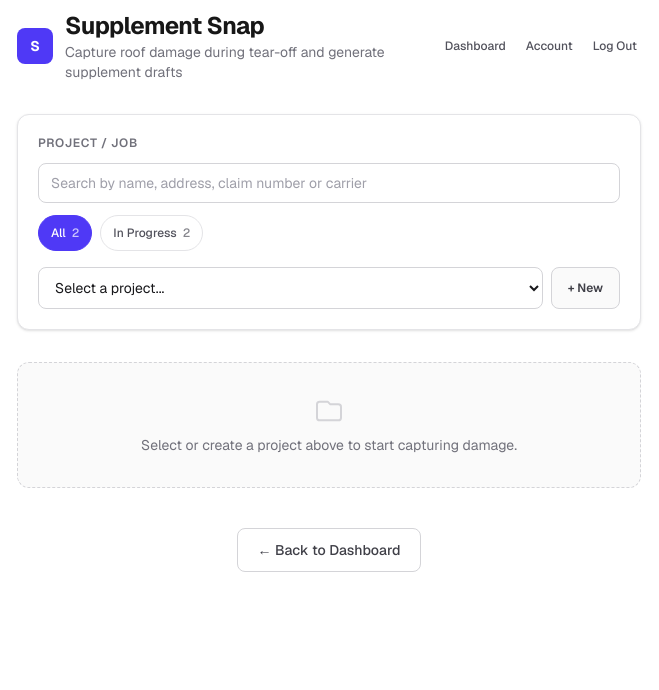
Test case: dashboard smoke test (stand-in database) › a generated draft says 'Draft generated', not 'Saved', while the database has not confirmed the write
Select "Garcia Roof (In Progress)" in the dropdown labelled "Project / Job" at (290, 288), box [38,267,543,309]
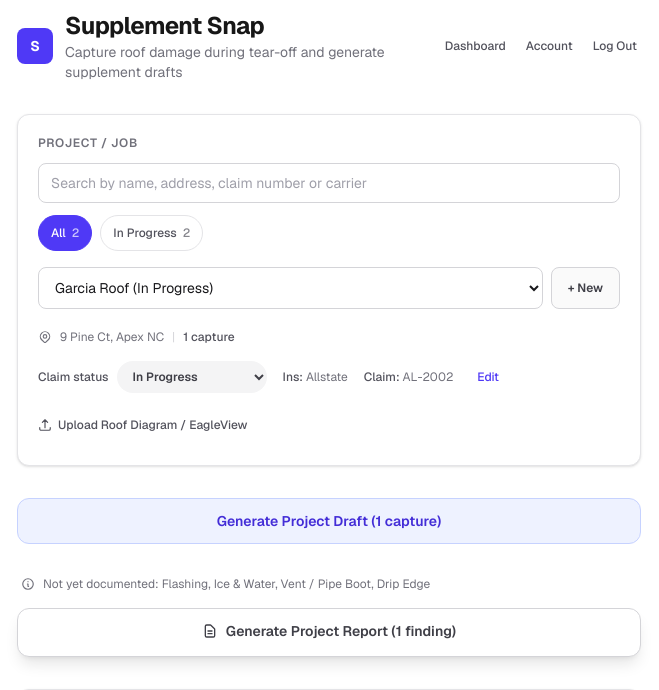
Click the button "Generate Project Draft (1 capture)".
click(329, 521)  # box [17,498,641,544]
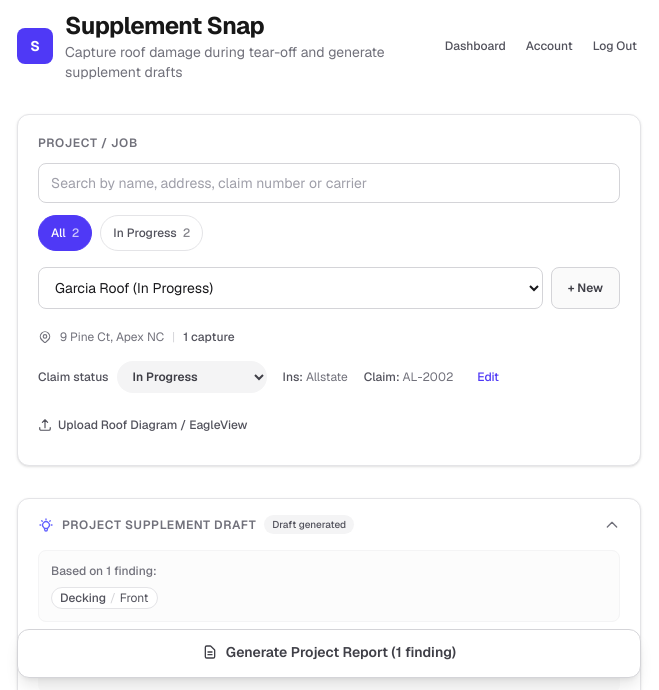
Expected: the text "Draft generated" is shown, [264,515,354,534]
